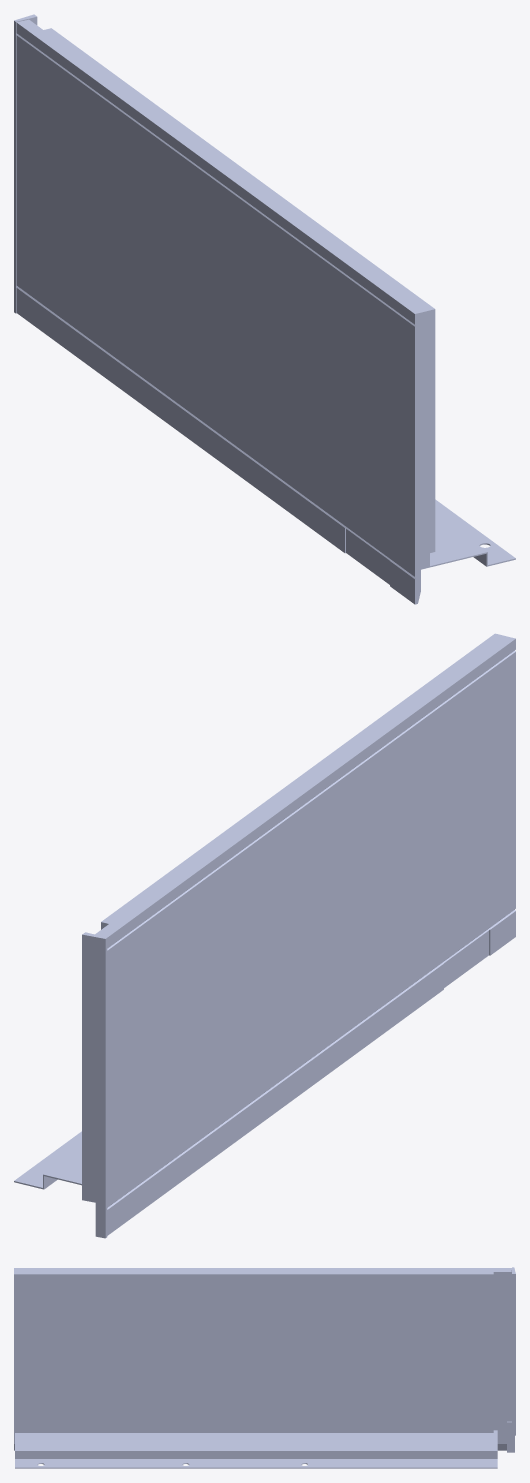
File: lg-kava-C450-p.glb
3 renders of one model, top to bottom at view 1: azimuth 30°, elevation 25°; view 2: azimuth 150°, elevation 25°; view 3: azimuth 270°, elevation 25°, orthographic. The views are drawn at different scales.
Parts seen in each view (by area): view 1: 41137983; view 2: 41137983; view 3: 41137983.
Part boxes in pixels (x1=…): 41137983: x1=14, y1=14, x2=515, y2=604; 41137983: x1=14, y1=633, x2=515, y2=1238; 41137983: x1=14, y1=1267, x2=515, y2=1468.
Bounding box in the file's own units: 0.0653 × 0.1777 × 0.4435.
